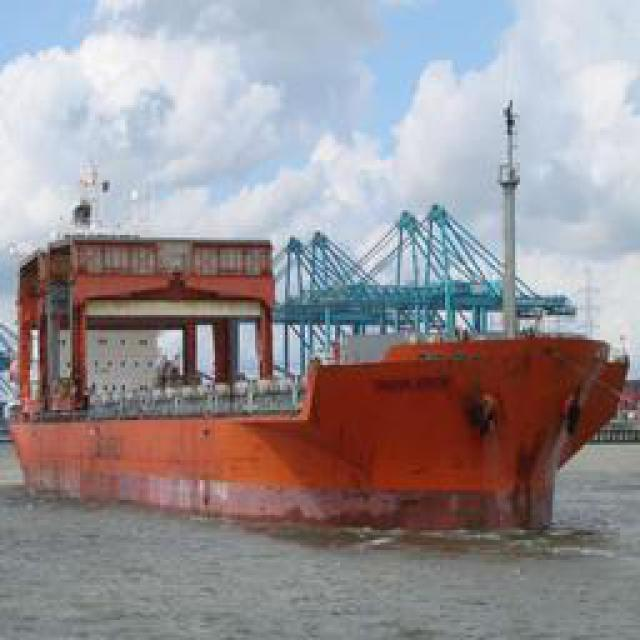Ship: (57, 333, 630, 538)
